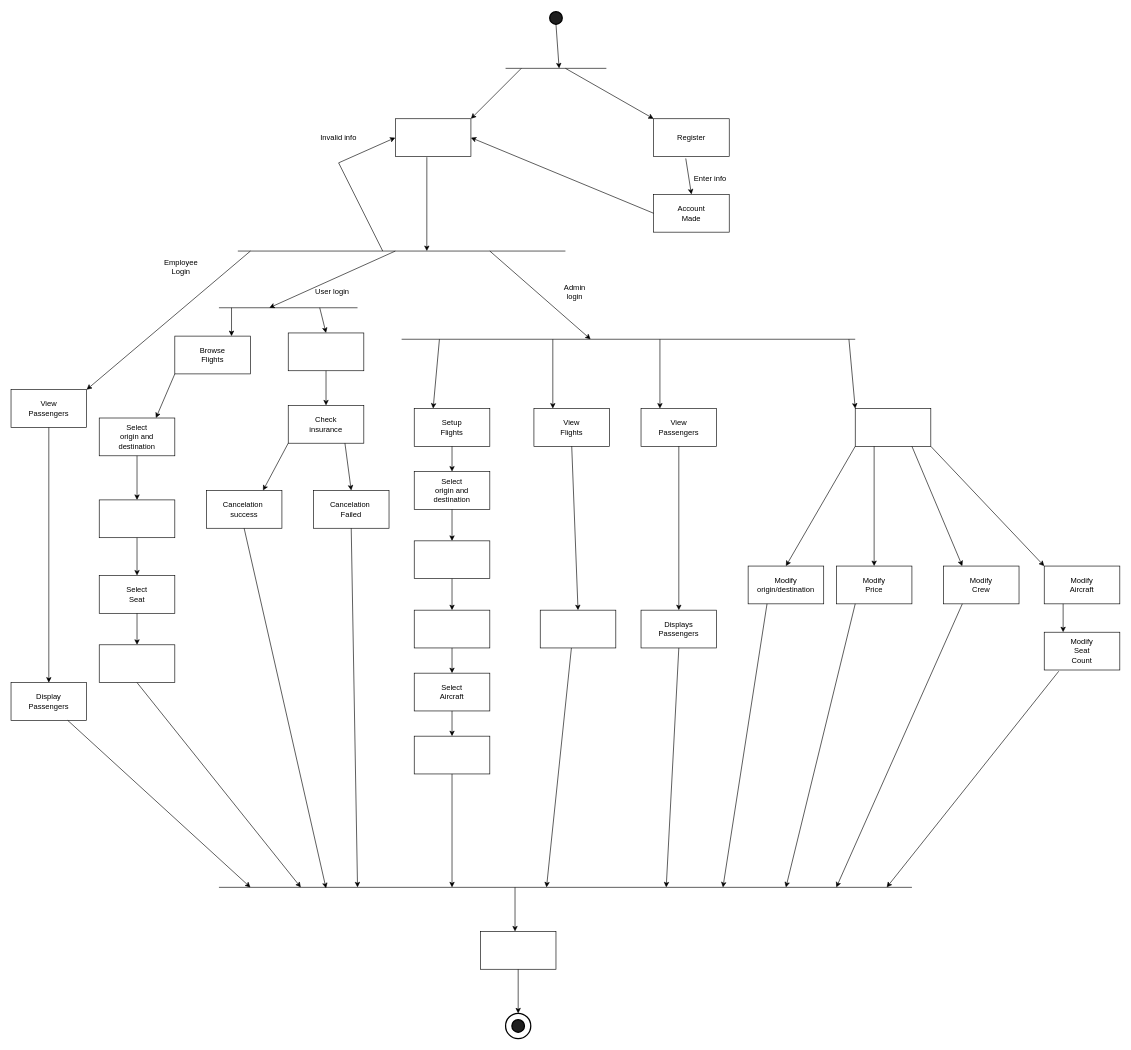
Some shapes in this 1131 by 1050 pixel diagram are drawn without their labels. The shapes that lost their labels are listed below. From the top down, each one's centre as x and y in pixels, then its label:
At (433,137): "Login".
At (326,351): "Cancel Flight".
At (893,427): "Modify Flights".
At (137,518): "Select Flight".
At (452,559): "Select seats avaliable".
At (452,629): "Select Price".
At (578,629): "displays flights".
At (137,663): "Make Payment".
At (452,755): "Select Crew".
At (518,950): "Log out".
